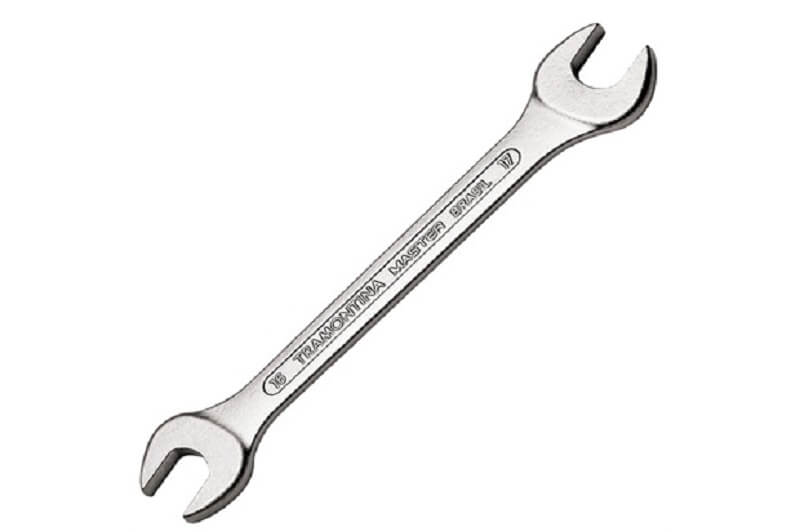martelo: (133, 7, 673, 526)
